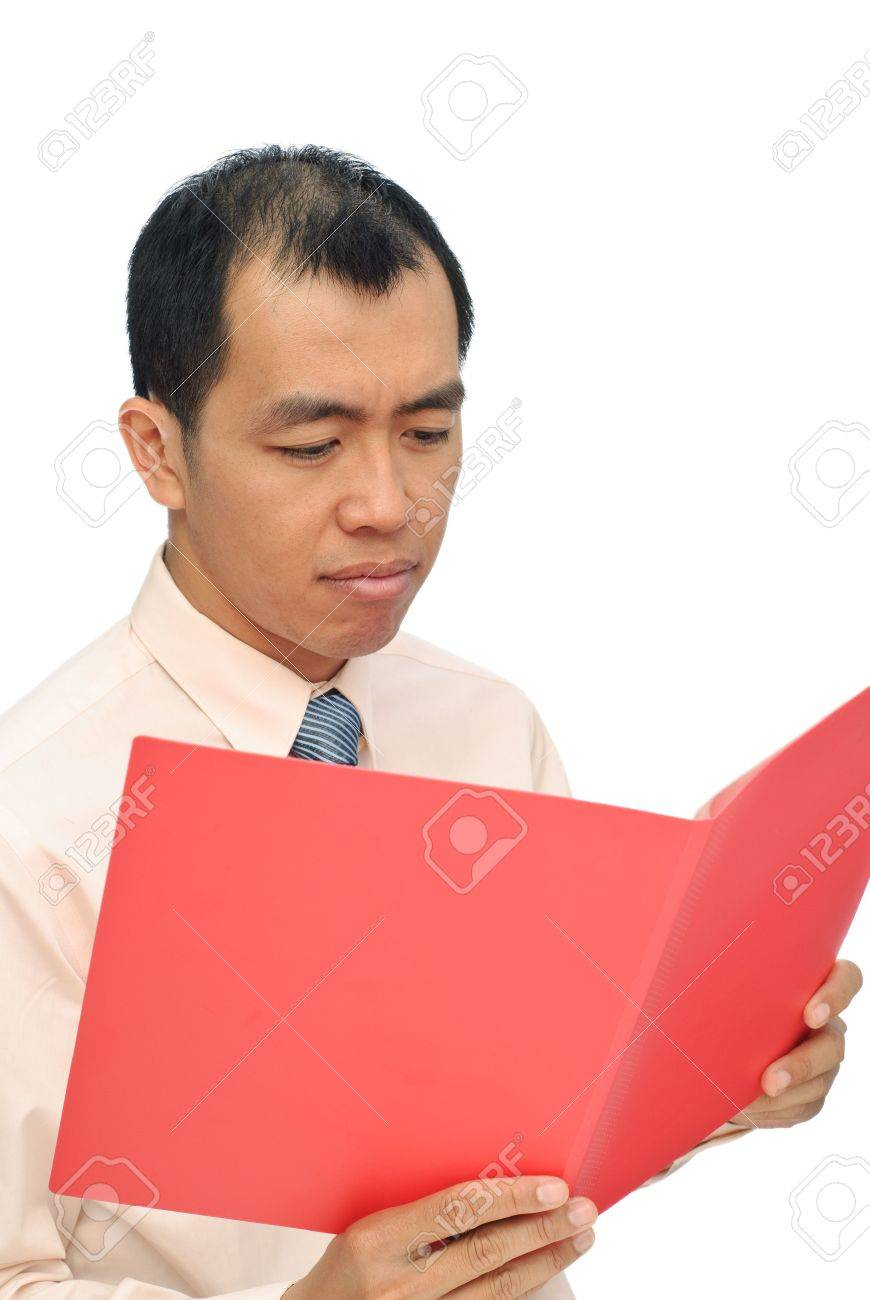red folder: (45, 687, 870, 1244)
